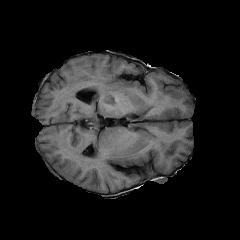glioma: (67, 70, 115, 105)
